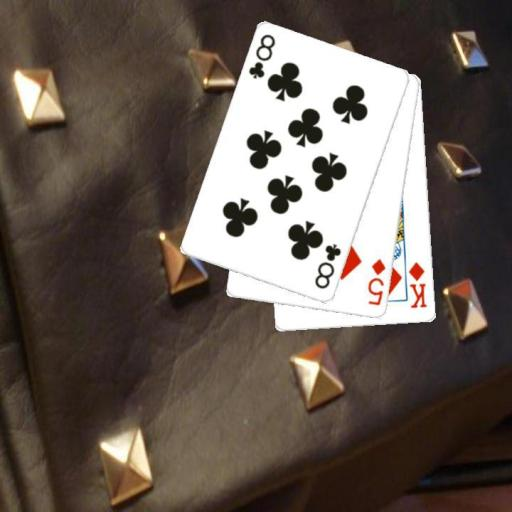5D: (365, 256, 388, 307)
8C: (311, 241, 343, 291), (246, 31, 278, 81)
KD: (405, 259, 429, 310)
